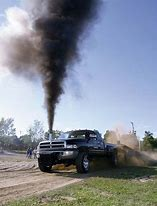smoke: (21, 1, 99, 131)
